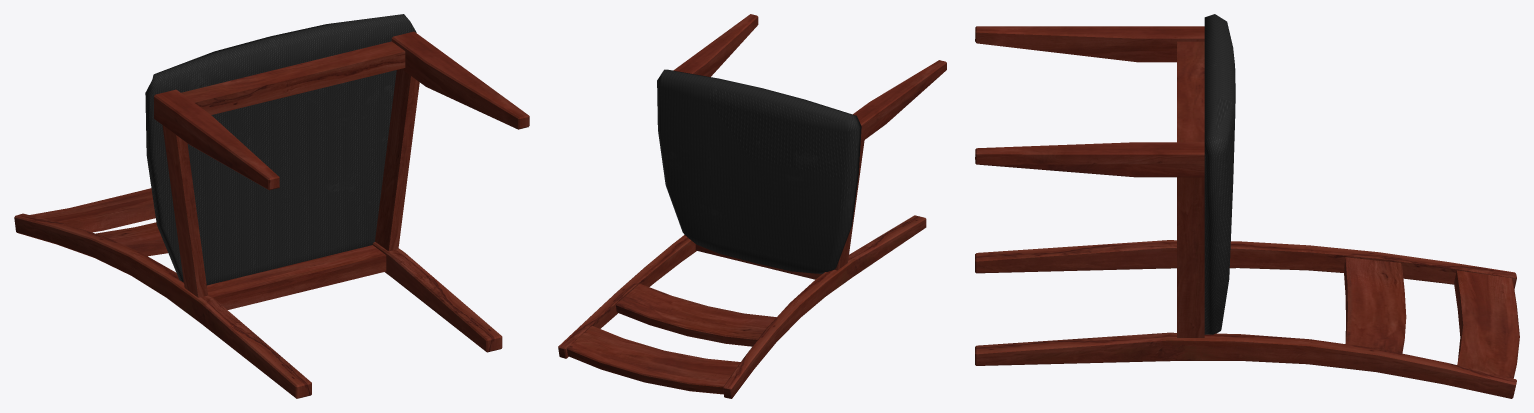
The model's file is mH_Chair03.fbx.
3 views of the same model, side by side, from view 1: azimuth 30°, elevation 25°; view 2: azimuth 150°, elevation 25°; view 3: azimuth 270°, elevation 25° (orthographic). The views are drawn at different scales.
Visible parts, largest first — view 1: mH_Chair03; view 2: mH_Chair03; view 3: mH_Chair03.
Boxes of the visible parts, bbox=[...] form: mH_Chair03: bbox=[14, 14, 529, 398]; mH_Chair03: bbox=[558, 14, 946, 398]; mH_Chair03: bbox=[975, 14, 1519, 398].
Bounding box in the file's own units: 100 × 101 × 177.
